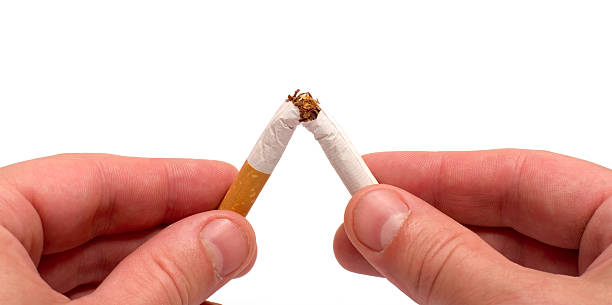cigarette: (217, 87, 307, 220), (297, 91, 379, 197)
